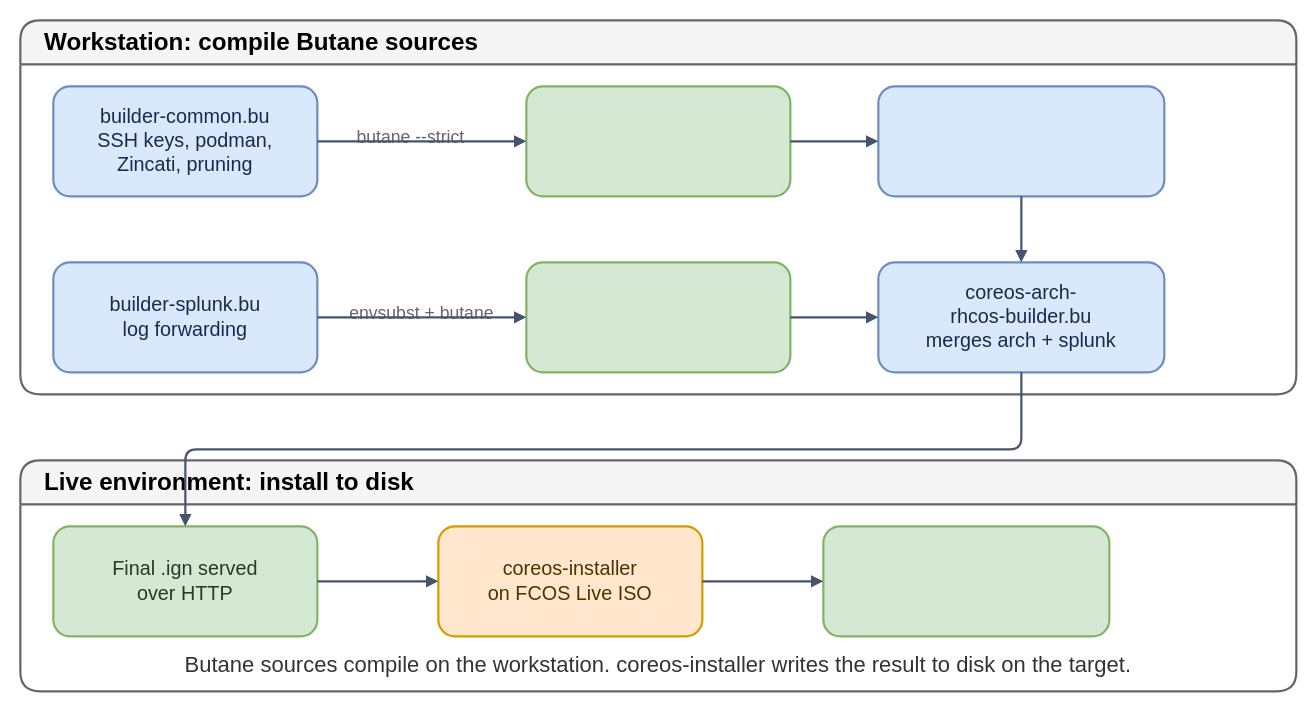
Some shapes in this 1316 by 711 pixel diagram are drawn without their labels. The centre of each missing label's shape, as x and y in pixels:
builder-common.ign: the point at 658,141
builder-splunk.ign: the point at 658,317
coreos-arch-builder.bu hostname + builder key merges common.ign: the point at 1021,141
Provisioned builder ready for Jenkins: the point at 966,581
